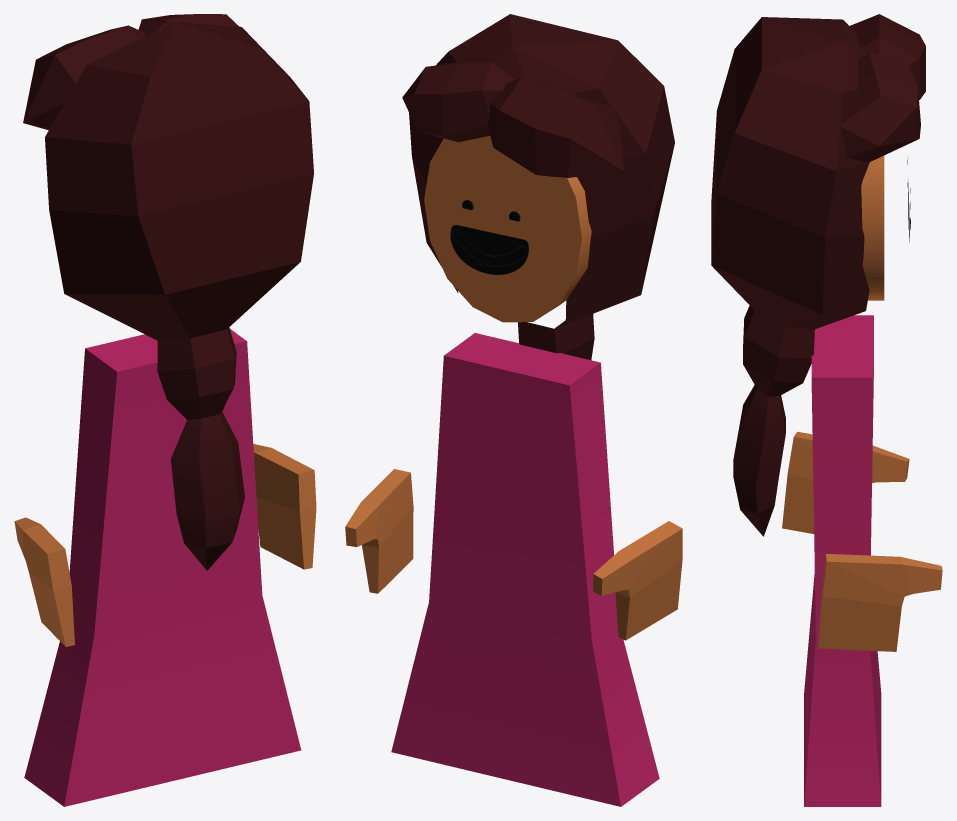
Rendered from Guide.glb.
3 renders of one model, left to right at view 1: azimuth 30°, elevation 25°; view 2: azimuth 150°, elevation 25°; view 3: azimuth 270°, elevation 25°, orthographic. The views are drawn at different scales.
Visible parts, largest first — view 1: hair_ponytail_geo ALL, body_2 style_2 ALL, Hand_L1, Hand_L1.001; view 2: body_2 style_2 ALL, hair_ponytail_geo ALL, head_2 style_2 ALL, Hand_L1.001, Hand_L1, Plane.002, Plane; view 3: hair_ponytail_geo ALL, body_2 style_2 ALL, Hand_L1, Hand_L1.001, head_2 style_2 ALL.
Part boxes in pixels (x1,y1,x2,y2): hair_ponytail_geo ALL: (23,14,313,570); body_2 style_2 ALL: (24,329,300,806); Hand_L1: (253,444,316,569); Hand_L1.001: (14,517,74,646); body_2 style_2 ALL: (391,333,659,806); hair_ponytail_geo ALL: (402,14,674,359); head_2 style_2 ALL: (424,136,591,322); Hand_L1.001: (593,521,682,640); Hand_L1: (345,469,413,593); Plane.002: (450,200,528,274); Plane: (452,200,527,266); hair_ponytail_geo ALL: (711,14,925,536); body_2 style_2 ALL: (804,315,881,806); Hand_L1: (818,554,942,651); Hand_L1.001: (782,431,909,533); head_2 style_2 ALL: (861,155,884,300).
Bounding box in the file's own units: 1.16 × 2.9 × 0.8481.
Materials: 5 (2 with a texture image).
